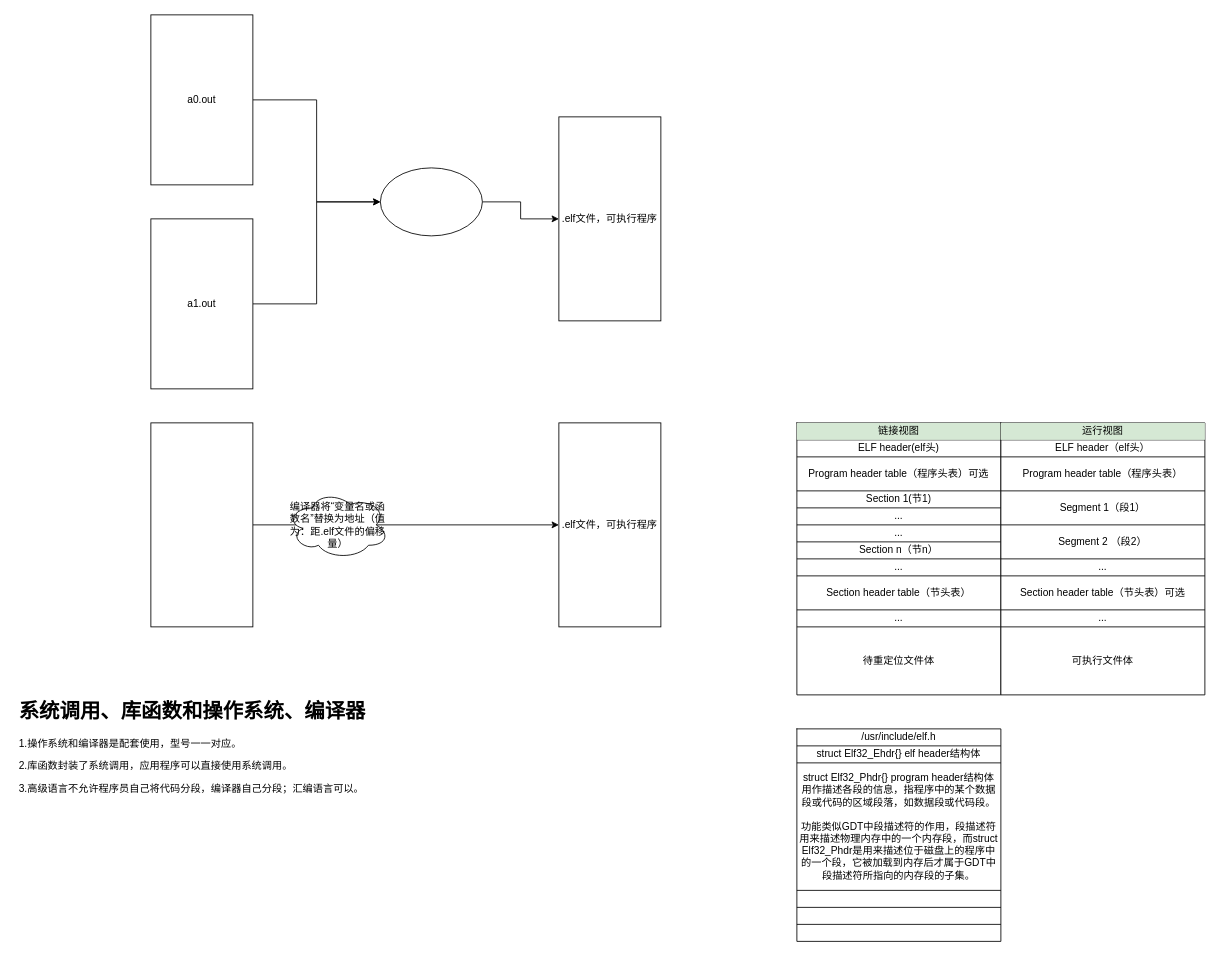
Image size: 1220x956. Some labels were removed from this diagram. Each missing label, with the centre of its shape:
".asm文件，汇编程序" goes at [201,524].
"linker" goes at [431,201].
